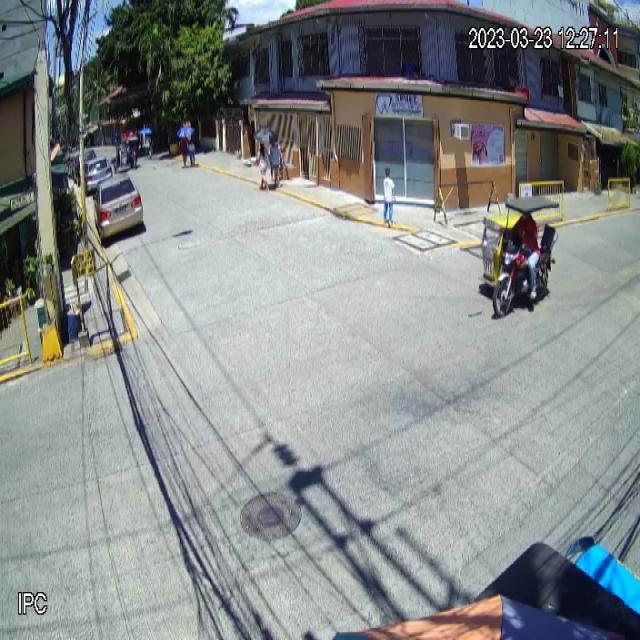Tricycle: (480, 190, 557, 320)
